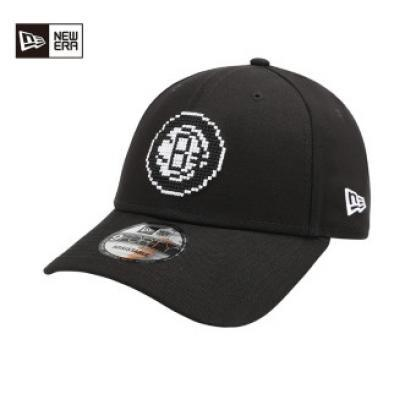cap: (32, 52, 382, 336)
